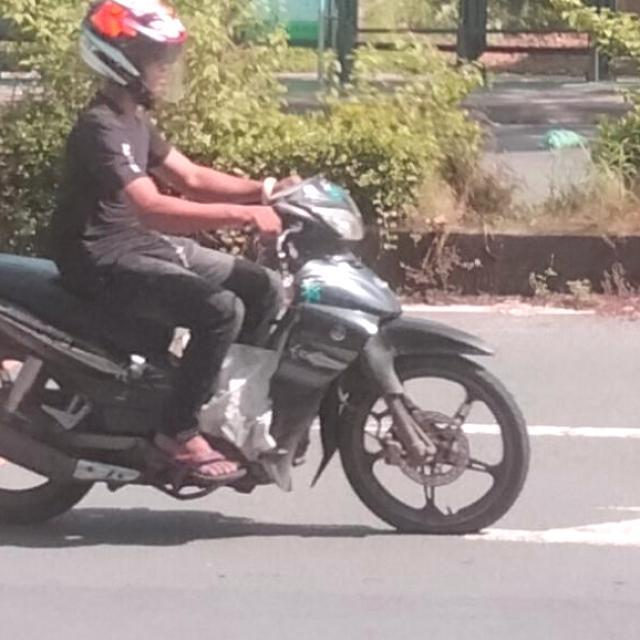Helmet: (80, 0, 188, 109)
